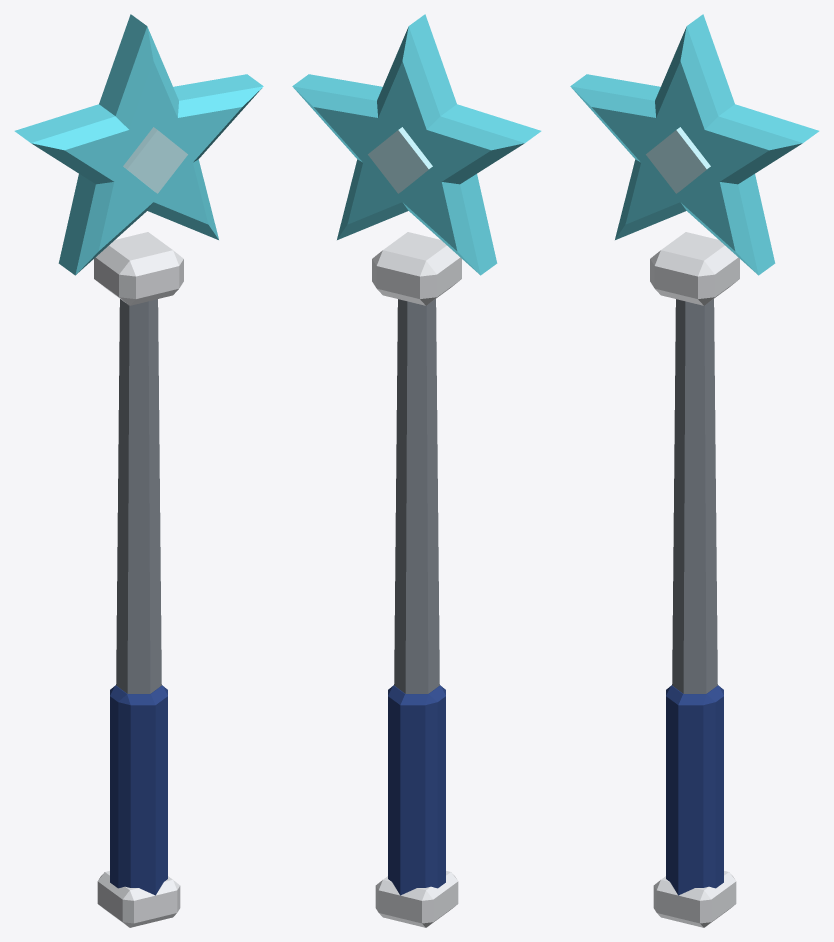
Rendered from DiamondWand.fbx.
3 views of the same model, side by side, from view 1: azimuth 30°, elevation 25°; view 2: azimuth 150°, elevation 25°; view 3: azimuth 330°, elevation 25° (orthographic).
Visible parts, largest first — view 1: DiamondWand; view 2: DiamondWand; view 3: DiamondWand.
Boxes of the visible parts, x1,y1,x2,y2 form: DiamondWand: (14, 14, 263, 927); DiamondWand: (292, 14, 541, 927); DiamondWand: (570, 14, 819, 927).
Size of the model in its own units: 0.6467 by 2.37 by 0.18.
1 material, 1 textured.
